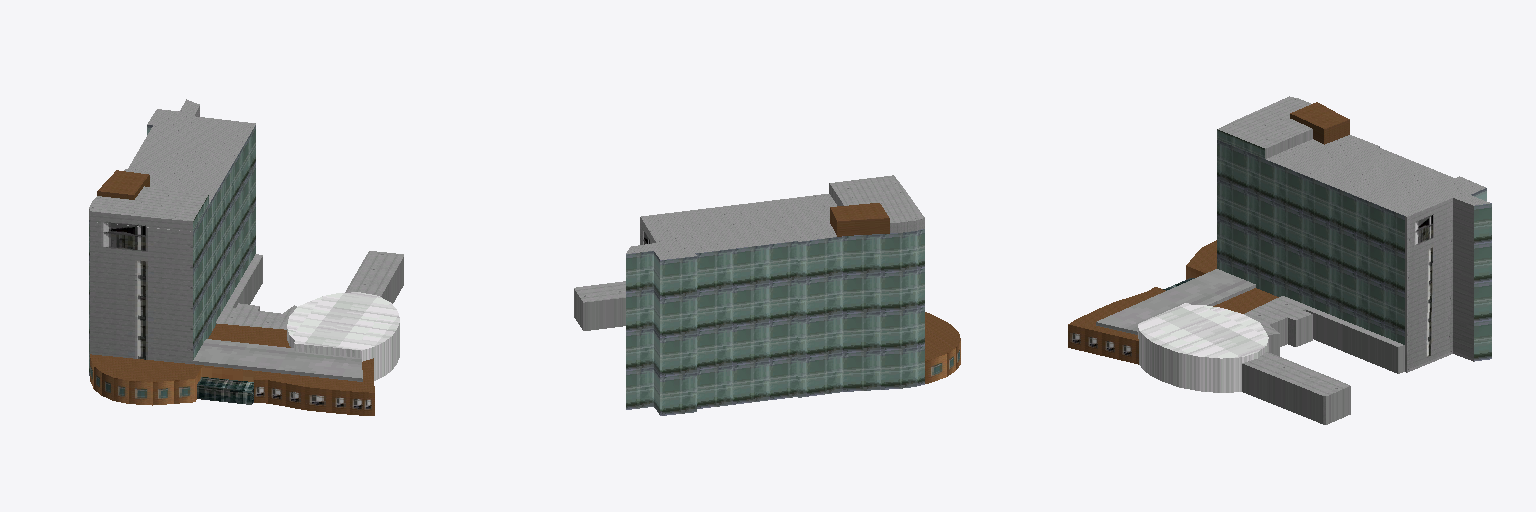
The picture shows the model from 3 angles: view 1: azimuth 30°, elevation 25°; view 2: azimuth 150°, elevation 25°; view 3: azimuth 270°, elevation 25°; orthographic projection.
Parts seen in each view (by area): view 1: VMtl1973, VMtl1960, VMtl1959, VMtl1970, VMtl1972, VMtl1957, VMtl1958, VMtl1971; view 2: VMtl1959, VMtl1973, VMtl1972, VMtl1957; view 3: VMtl1959, VMtl1973, VMtl1960, VMtl1970, VMtl1972, VMtl1958.
Part boxes in pixels (bbox=[...]): VMtl1973: bbox=[89, 99, 403, 381]; VMtl1960: bbox=[90, 106, 199, 363]; VMtl1959: bbox=[89, 125, 255, 375]; VMtl1970: bbox=[287, 292, 399, 380]; VMtl1972: bbox=[90, 170, 374, 392]; VMtl1957: bbox=[90, 358, 255, 405]; VMtl1958: bbox=[254, 380, 374, 415]; VMtl1971: bbox=[197, 377, 253, 404]; VMtl1959: bbox=[626, 229, 924, 415]; VMtl1973: bbox=[574, 175, 924, 330]; VMtl1972: bbox=[830, 203, 960, 360]; VMtl1957: bbox=[925, 341, 960, 383]; VMtl1959: bbox=[1217, 129, 1491, 361]; VMtl1973: bbox=[1096, 96, 1489, 424]; VMtl1960: bbox=[1407, 198, 1473, 372]; VMtl1970: bbox=[1138, 303, 1268, 392]; VMtl1972: bbox=[1068, 102, 1349, 340]; VMtl1958: bbox=[1068, 325, 1138, 364].
Bounding box in the file's own units: 95.69 × 45.76 × 103.
Materials: 9 (8 with a texture image).